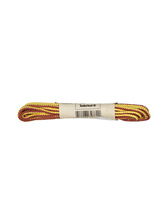other: (17, 102, 159, 131)
